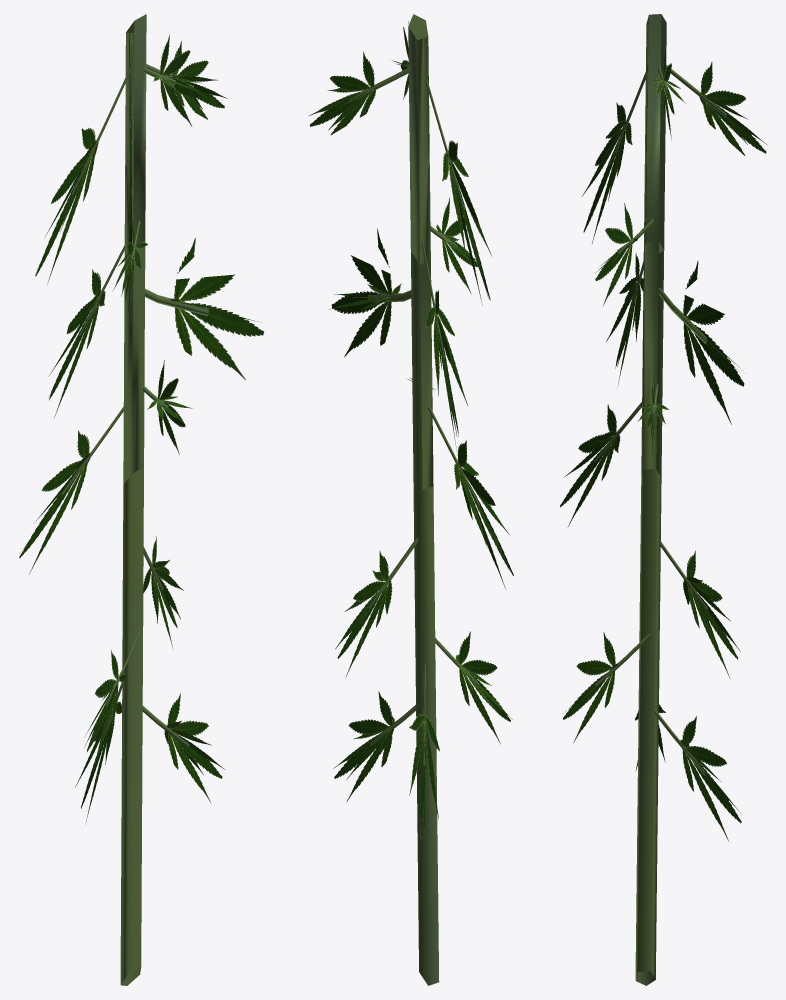
The model's file is WeedFarmModelobjec 2.FBX.
3 views of the same model, side by side, from view 1: azimuth 30°, elevation 25°; view 2: azimuth 150°, elevation 25°; view 3: azimuth 330°, elevation 25° (orthographic).
Visible parts, largest first — view 1: Plane003; view 2: Plane003; view 3: Plane003.
Boxes of the visible parts, x1,y1,x2,y2 form: Plane003: (19,14,264,985); Plane003: (308,14,513,985); Plane003: (560,14,766,985).
Bounding box in the file's own units: 49.68 × 198 × 20.59.
Materials: 1 (1 with a texture image).
